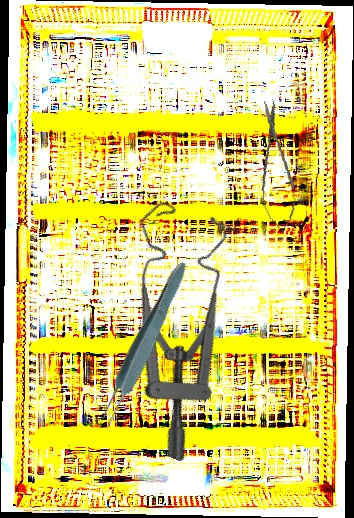Micro Scissor: (252, 98, 300, 234)
Speculum: (55, 190, 284, 464)
Tissue Forceps: (91, 257, 194, 434)
